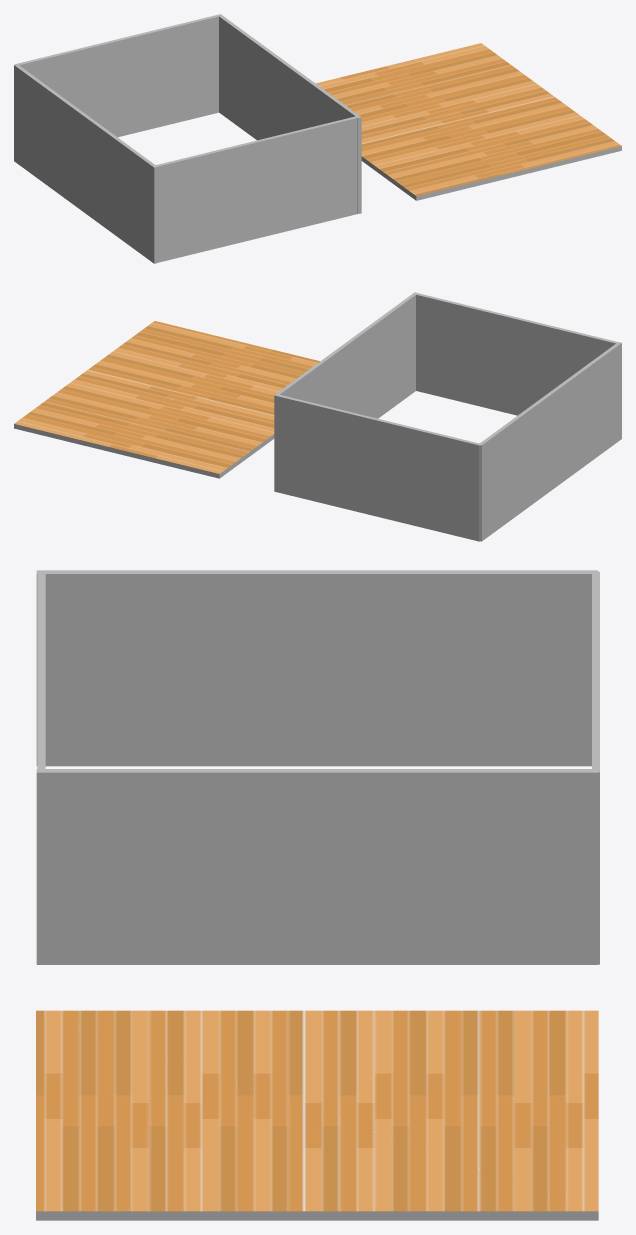
The model's file is plancher11.fbx.
3 renders of one model, top to bottom at view 1: azimuth 30°, elevation 25°; view 2: azimuth 150°, elevation 25°; view 3: azimuth 270°, elevation 25°, orthographic. The views are drawn at different scales.
Parts seen in each view (by area): view 1: pCube6; view 2: pCube6; view 3: pCube6.
Boxes of the visible parts, left/top/right/bottom form: pCube6: left=14, top=14, right=621, bottom=263; pCube6: left=14, top=292, right=621, bottom=541; pCube6: left=36, top=570, right=599, bottom=1220.
Size of the model in its own units: 164 by 32.6 by 85.97.
